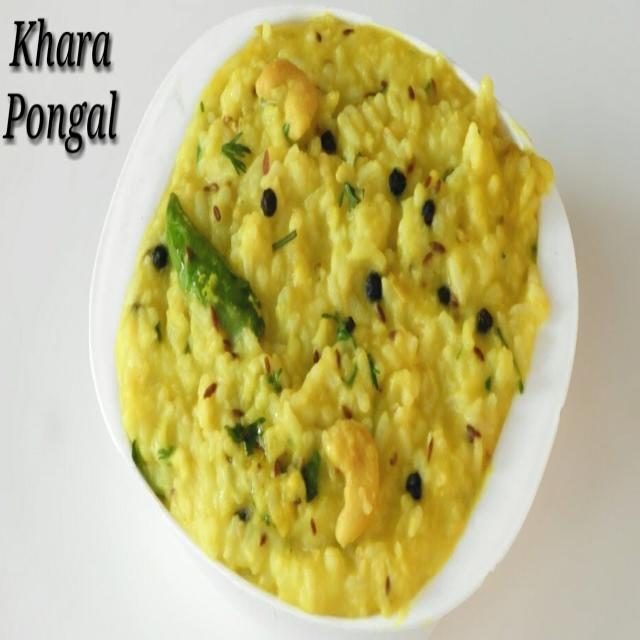khara pongal: (109, 4, 557, 629)
